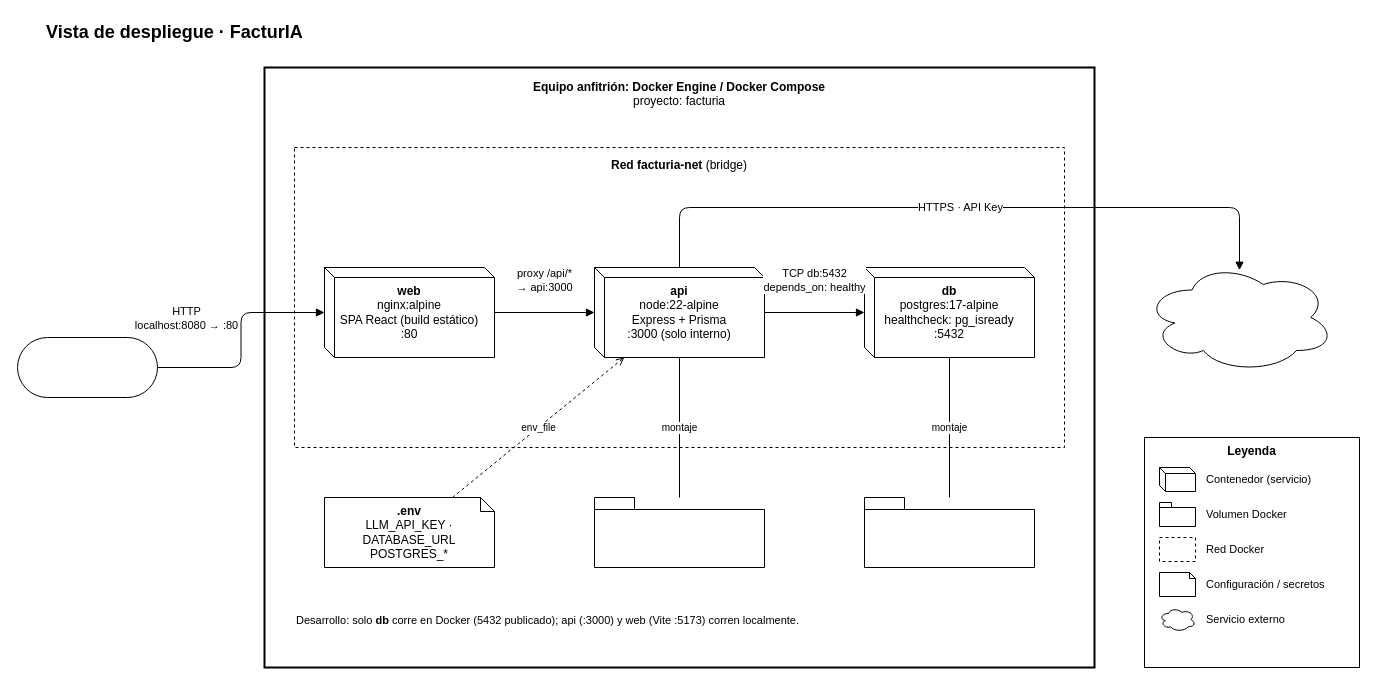
Some shapes in this 1377 by 685 pixel diagram are drawn without their labels. The shapes that lost their labels are listed below. From the top down, each one's box as (x1, y1, x2, y2) in pixels, then its label:
(1144, 262, 1334, 372): «external» Google Gemini API Internet · :443
(16, 336, 158, 398): Navegador del usuario
(594, 496, 764, 568): volumen facturia-uploads → /app/uploads
(864, 496, 1034, 568): volumen facturia-pgdata → /var/lib/postgresql/data
